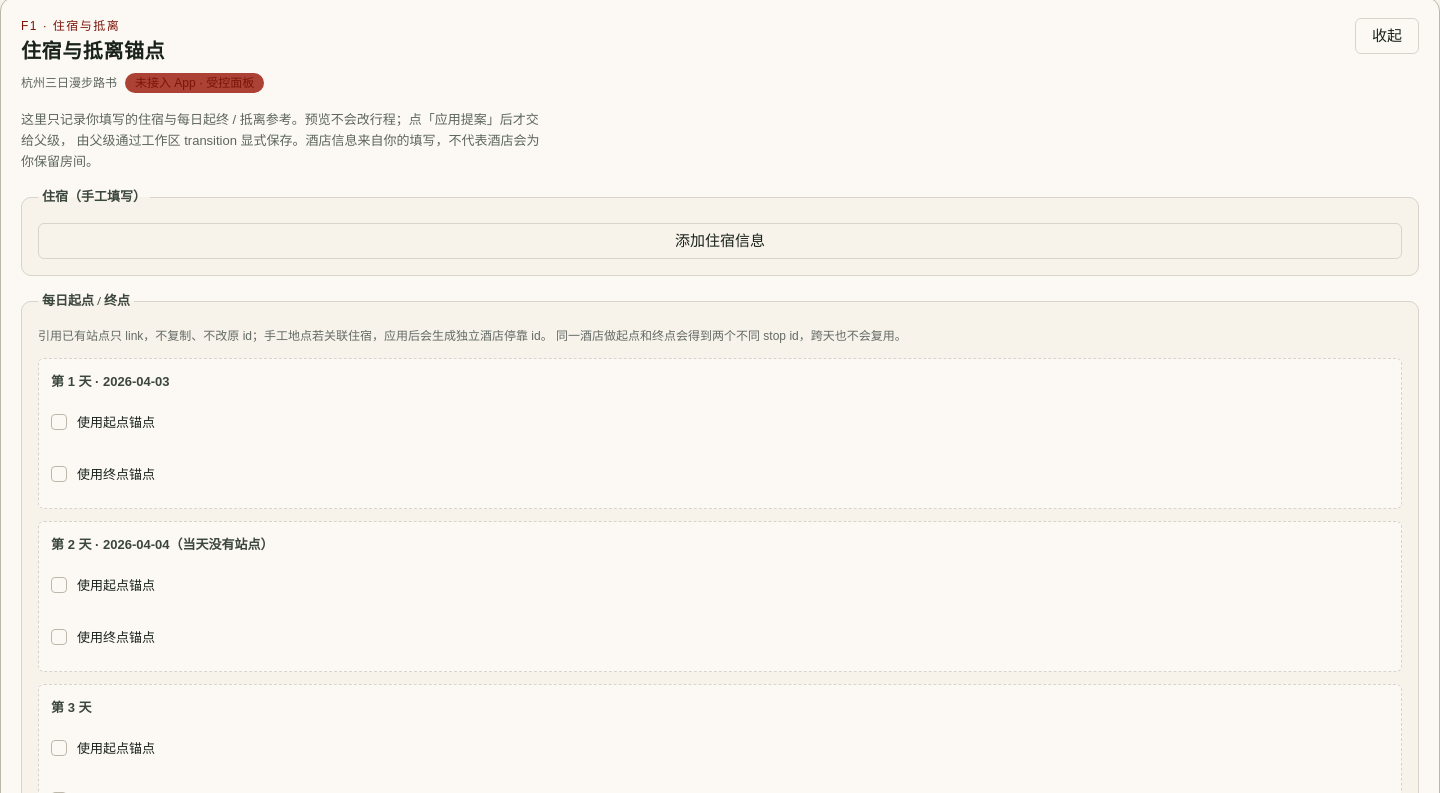
it: AnchorsPanel：预览 / 应用 / 取消 › 父级 apply 失败时显示错误并保留预览，record 不变
The width and height of the screenshot is (1440, 793).
Click the button "添加住宿信息" at (720, 241), box [38,223,1402,259]
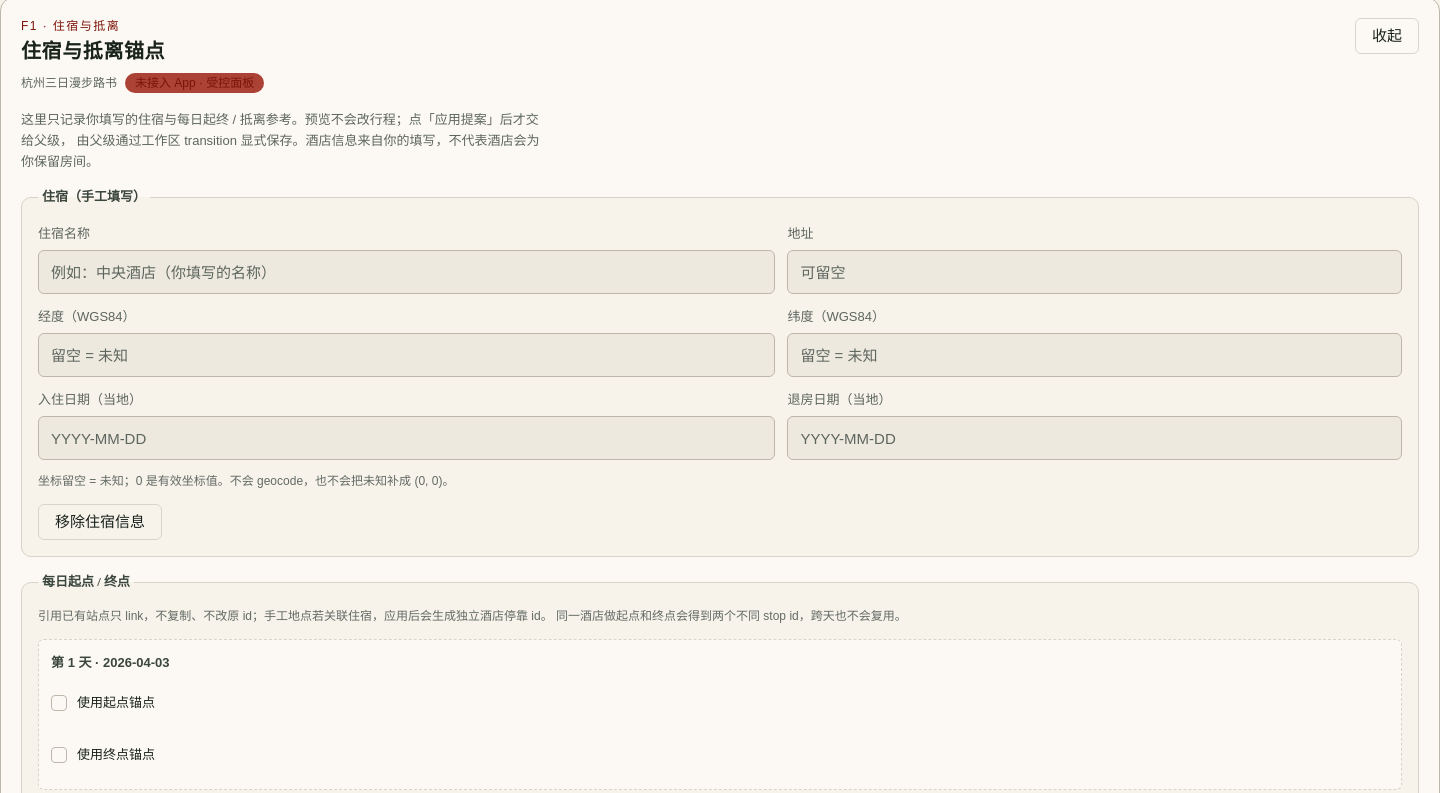
Type "中央酒店" into the field labelled "住宿名称" at (407, 272), box [38,250,776,294]
Type "2026-04-03" into the field labelled "入住日期（当地）" at (407, 438), box [38,416,776,460]
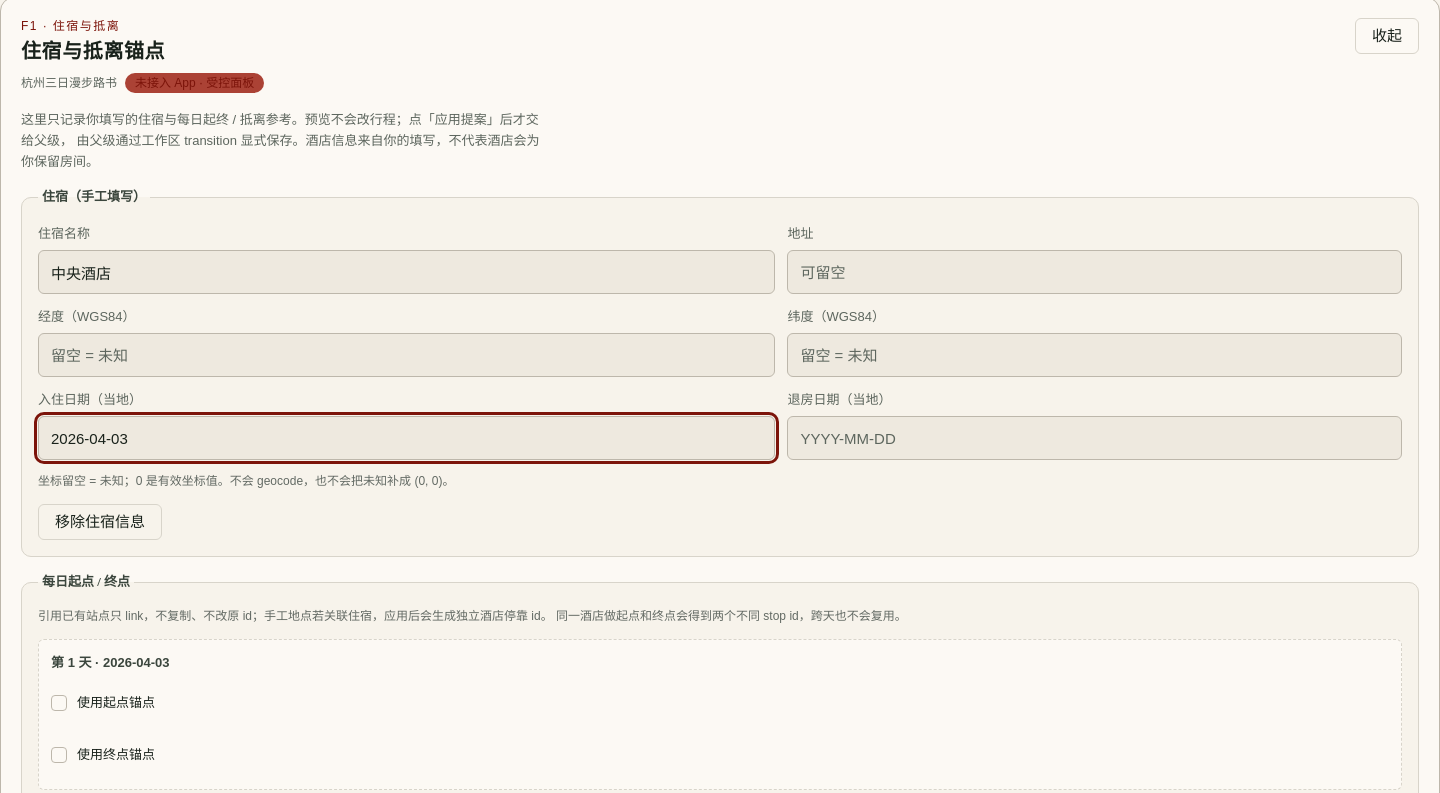
Type "2026-04-05" into the field labelled "退房日期（当地）" at (1095, 438), box [788,416,1402,460]
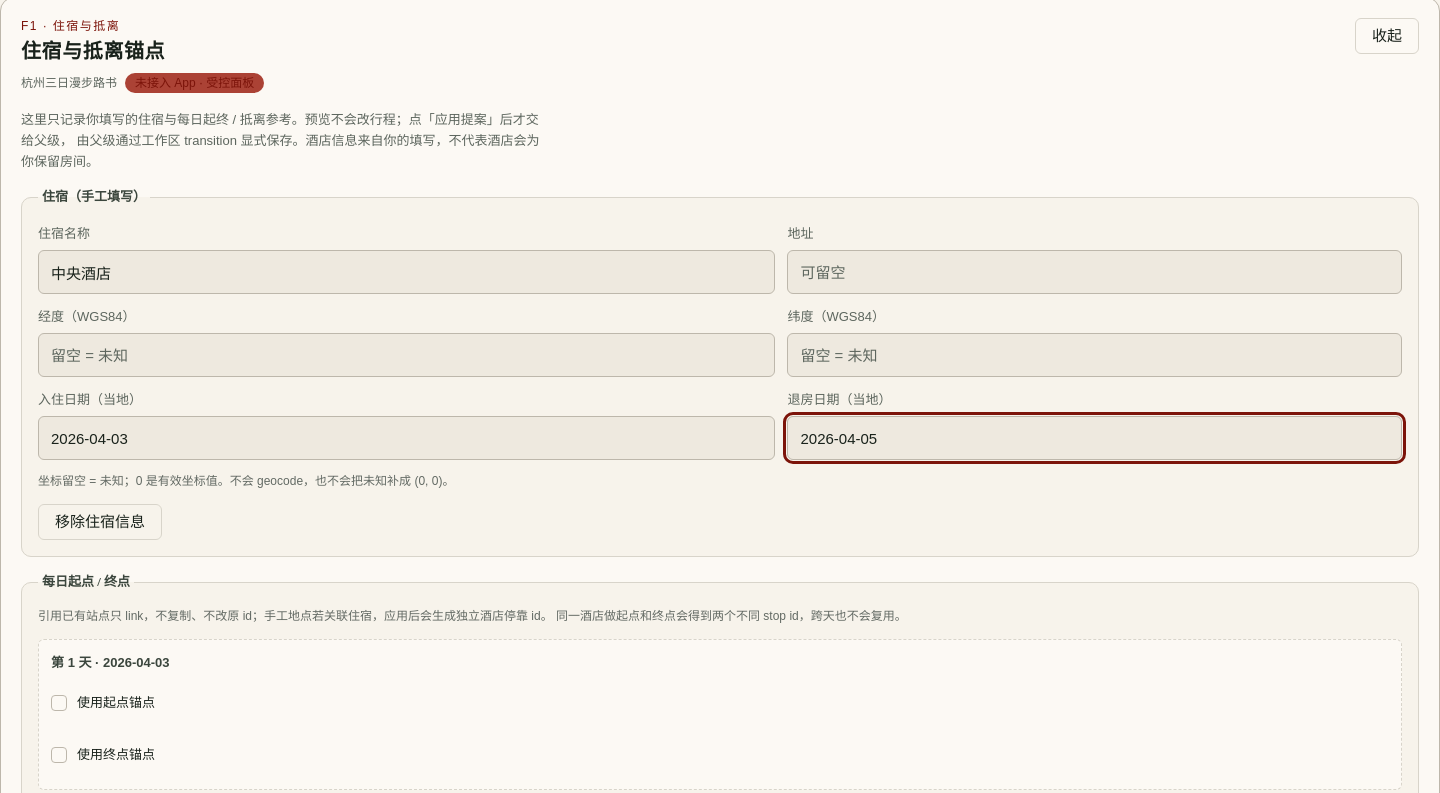
Click the checkbox labelled "使用起点锚点" at (59, 703), box [51,695,67,711]
(page scrolled)
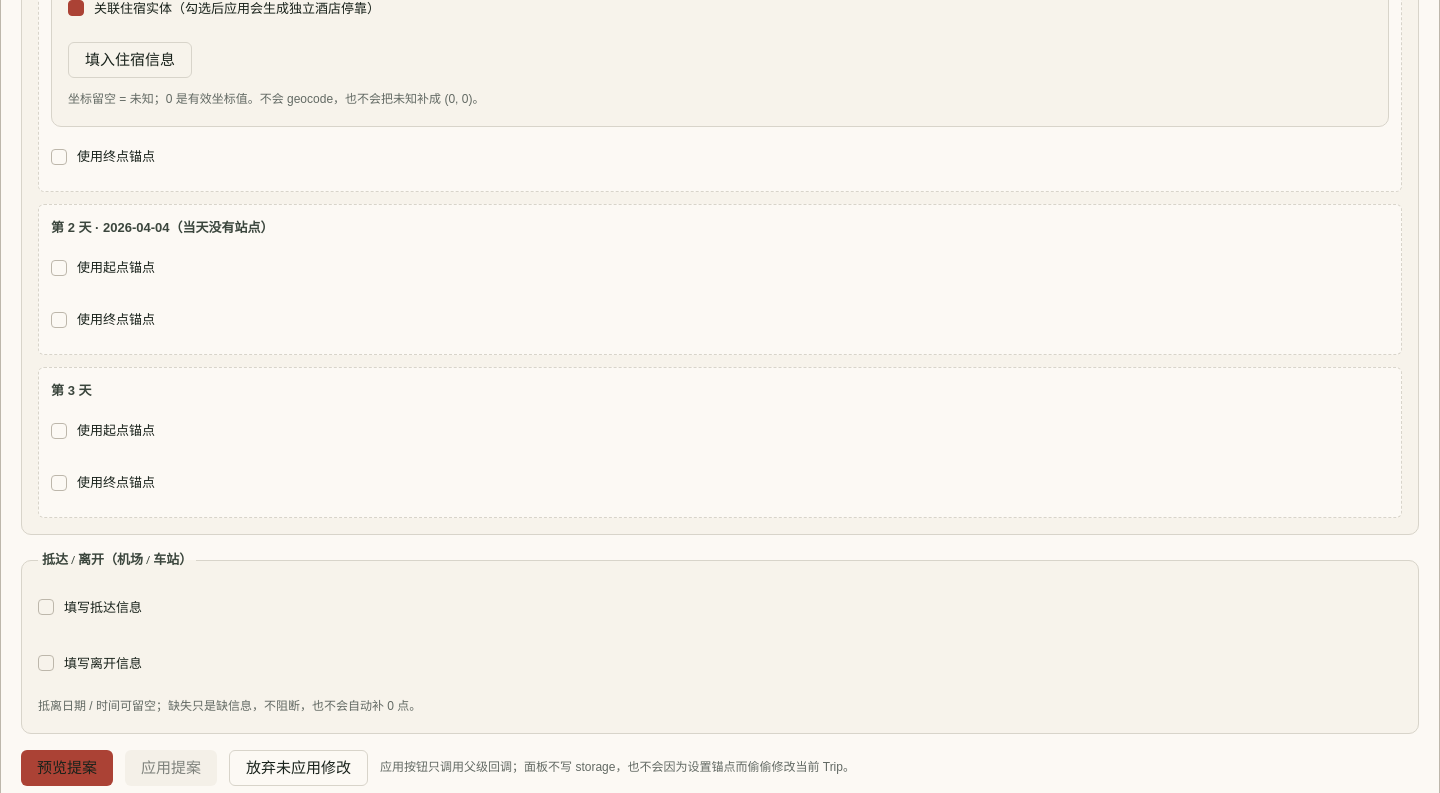
Click the button "预览提案" at (67, 768), box [21,750,113,786]
(page scrolled)
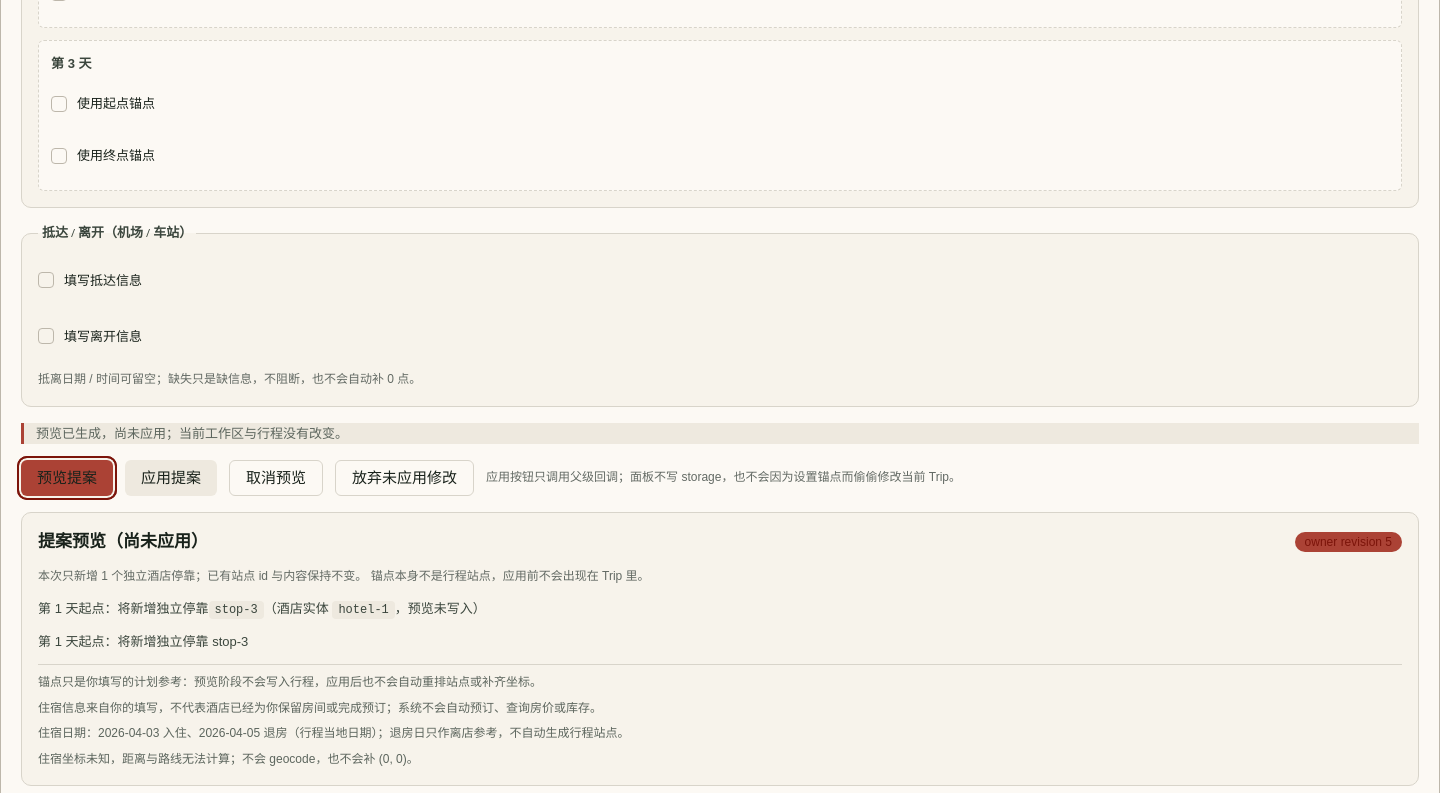
Click the button "应用提案" at (171, 478), box [125,460,217,496]
(page scrolled)
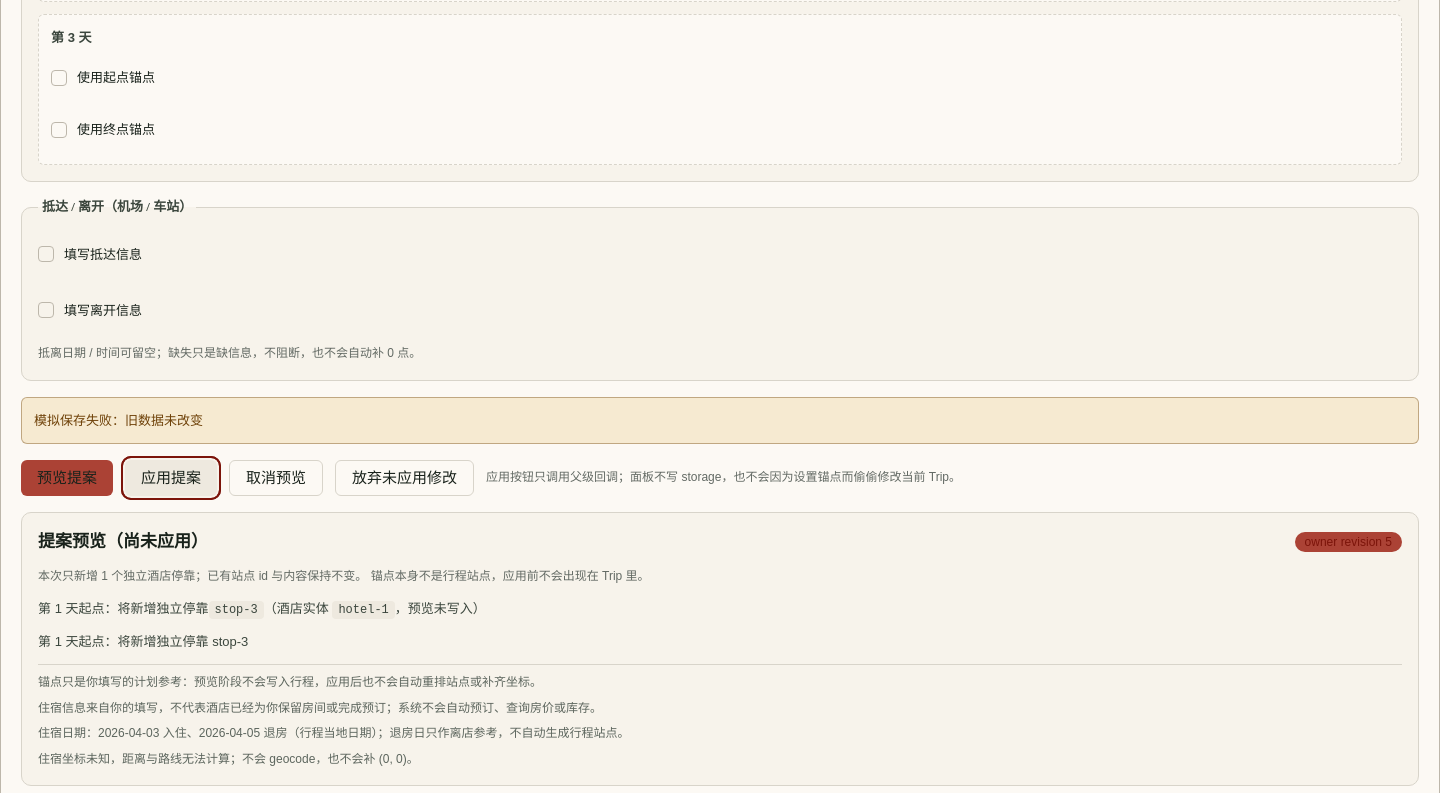
Result: the element with test id "anchors-preview" is shown at [21,512,1419,786]
Result: the message with test id "anchors-error" shows "模拟保存失败" at [34,413,203,428]
